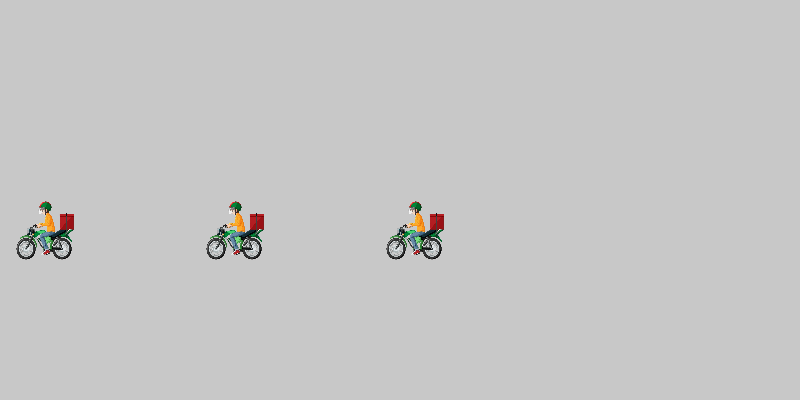helmet: (15, 200, 75, 260), (205, 200, 265, 260), (385, 200, 445, 260)
